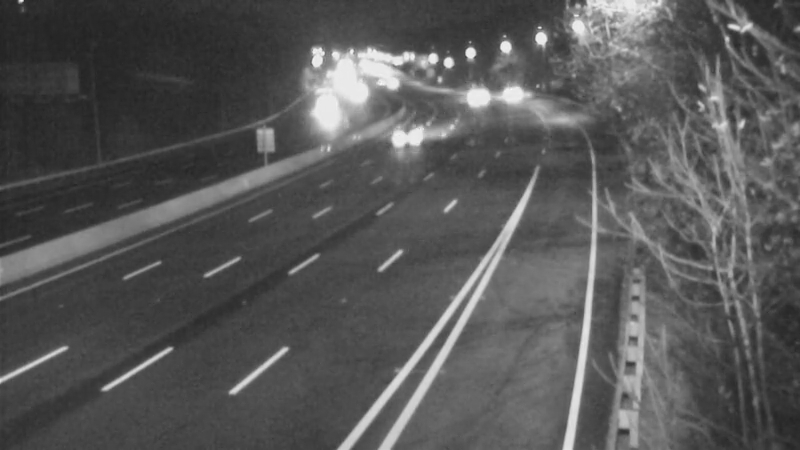vehicle: (474, 65, 524, 115), (452, 72, 502, 122), (377, 117, 427, 167), (302, 86, 352, 136)
